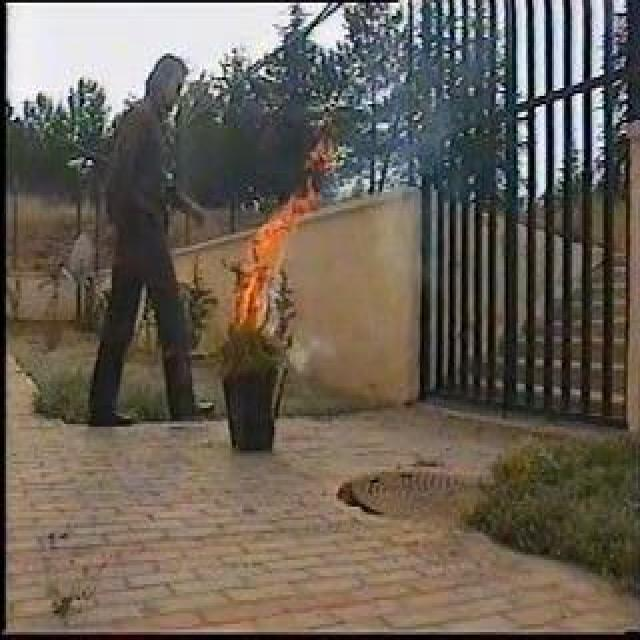fire: (240, 191, 284, 316)
